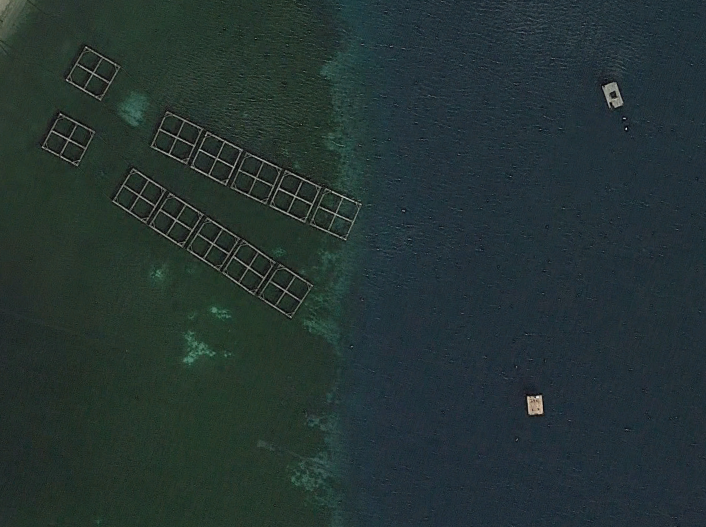platform: (601, 74, 629, 118), (520, 387, 547, 416)
square: (33, 107, 99, 168), (112, 166, 176, 227), (187, 126, 246, 190), (145, 108, 206, 169), (145, 194, 210, 251), (63, 43, 122, 105), (231, 152, 289, 214), (226, 241, 281, 303), (184, 216, 240, 275), (266, 171, 323, 228), (307, 189, 363, 245), (260, 262, 312, 319)
